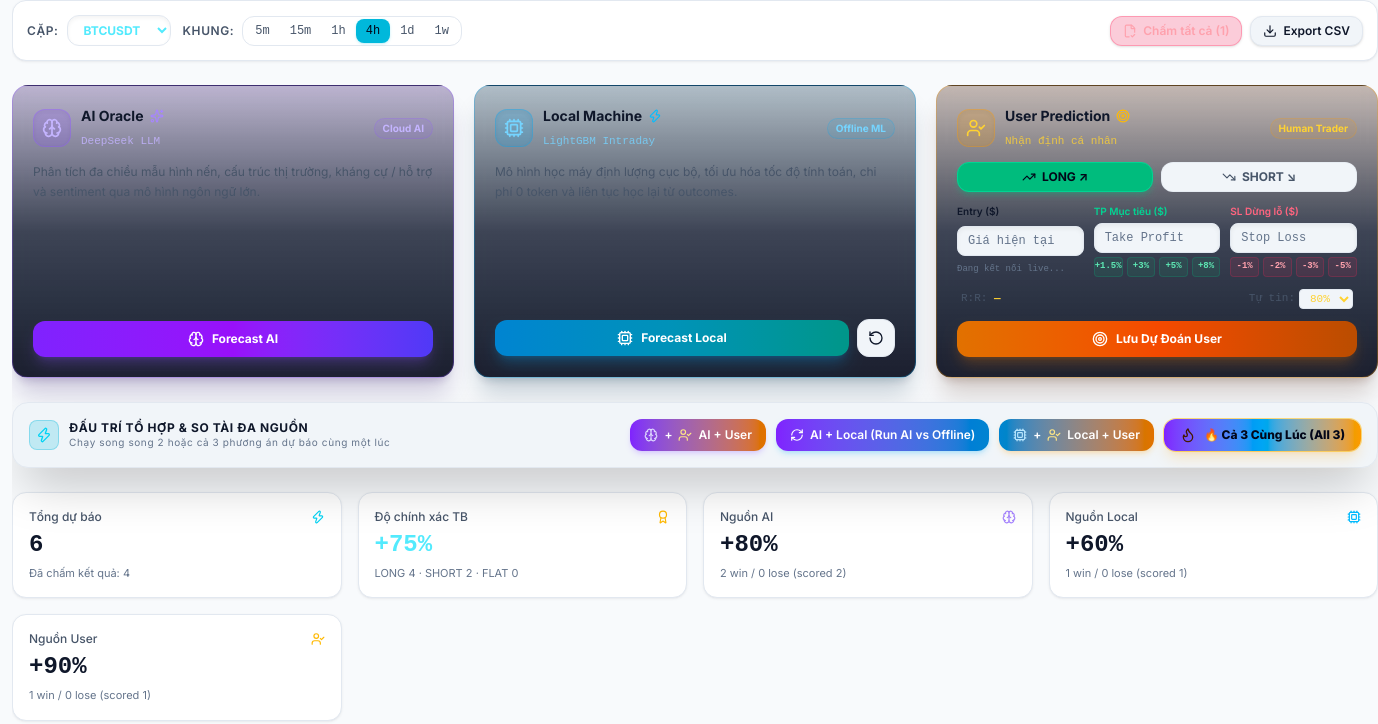
it: ForecastCompare UI and 3-Cluster Command Deck › retrains offline model when clicking retrain icon button
The width and height of the screenshot is (1378, 724).
What coordinates should you click on to do the following:
click the button titled "Retrain offline model"
I would click on:
 (876, 338)
Its box is [857, 318, 895, 356].
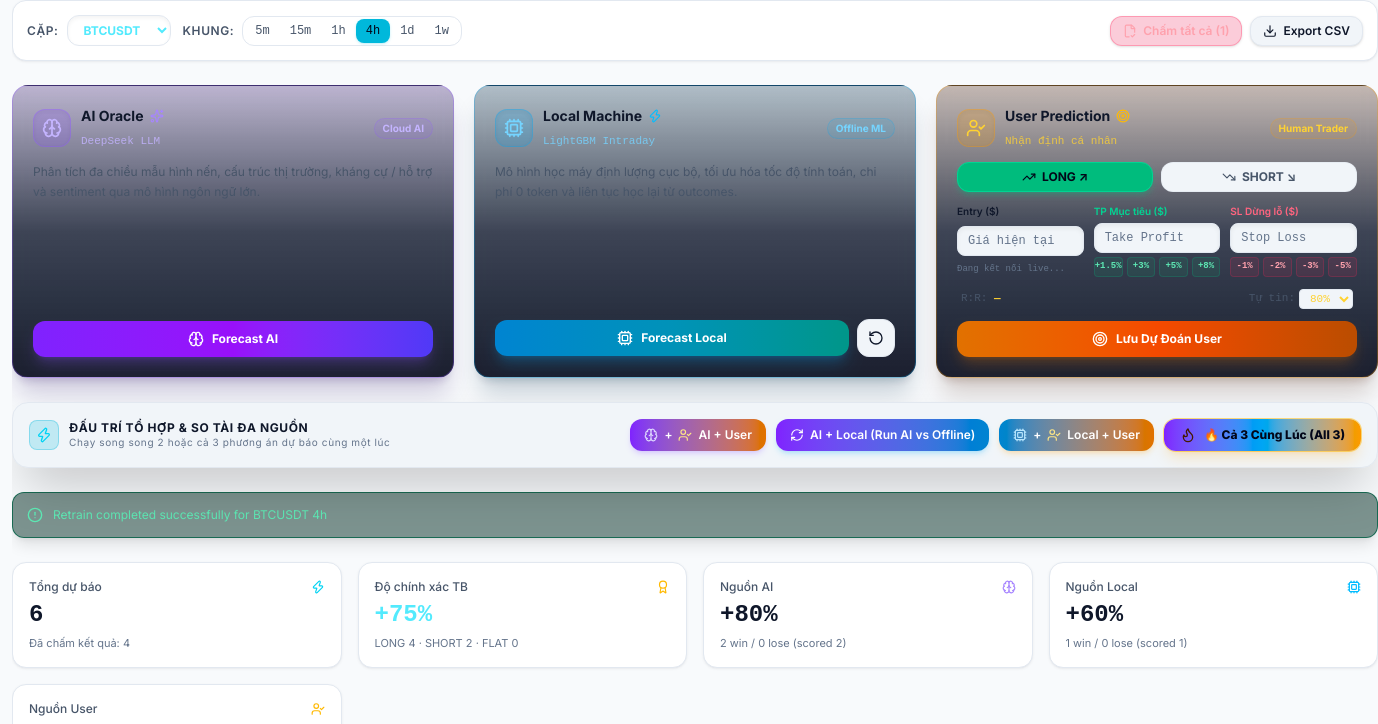
Now the text "Retrain completed successfully for BTCUSDT 4h" is shown, box [53, 506, 327, 522]
